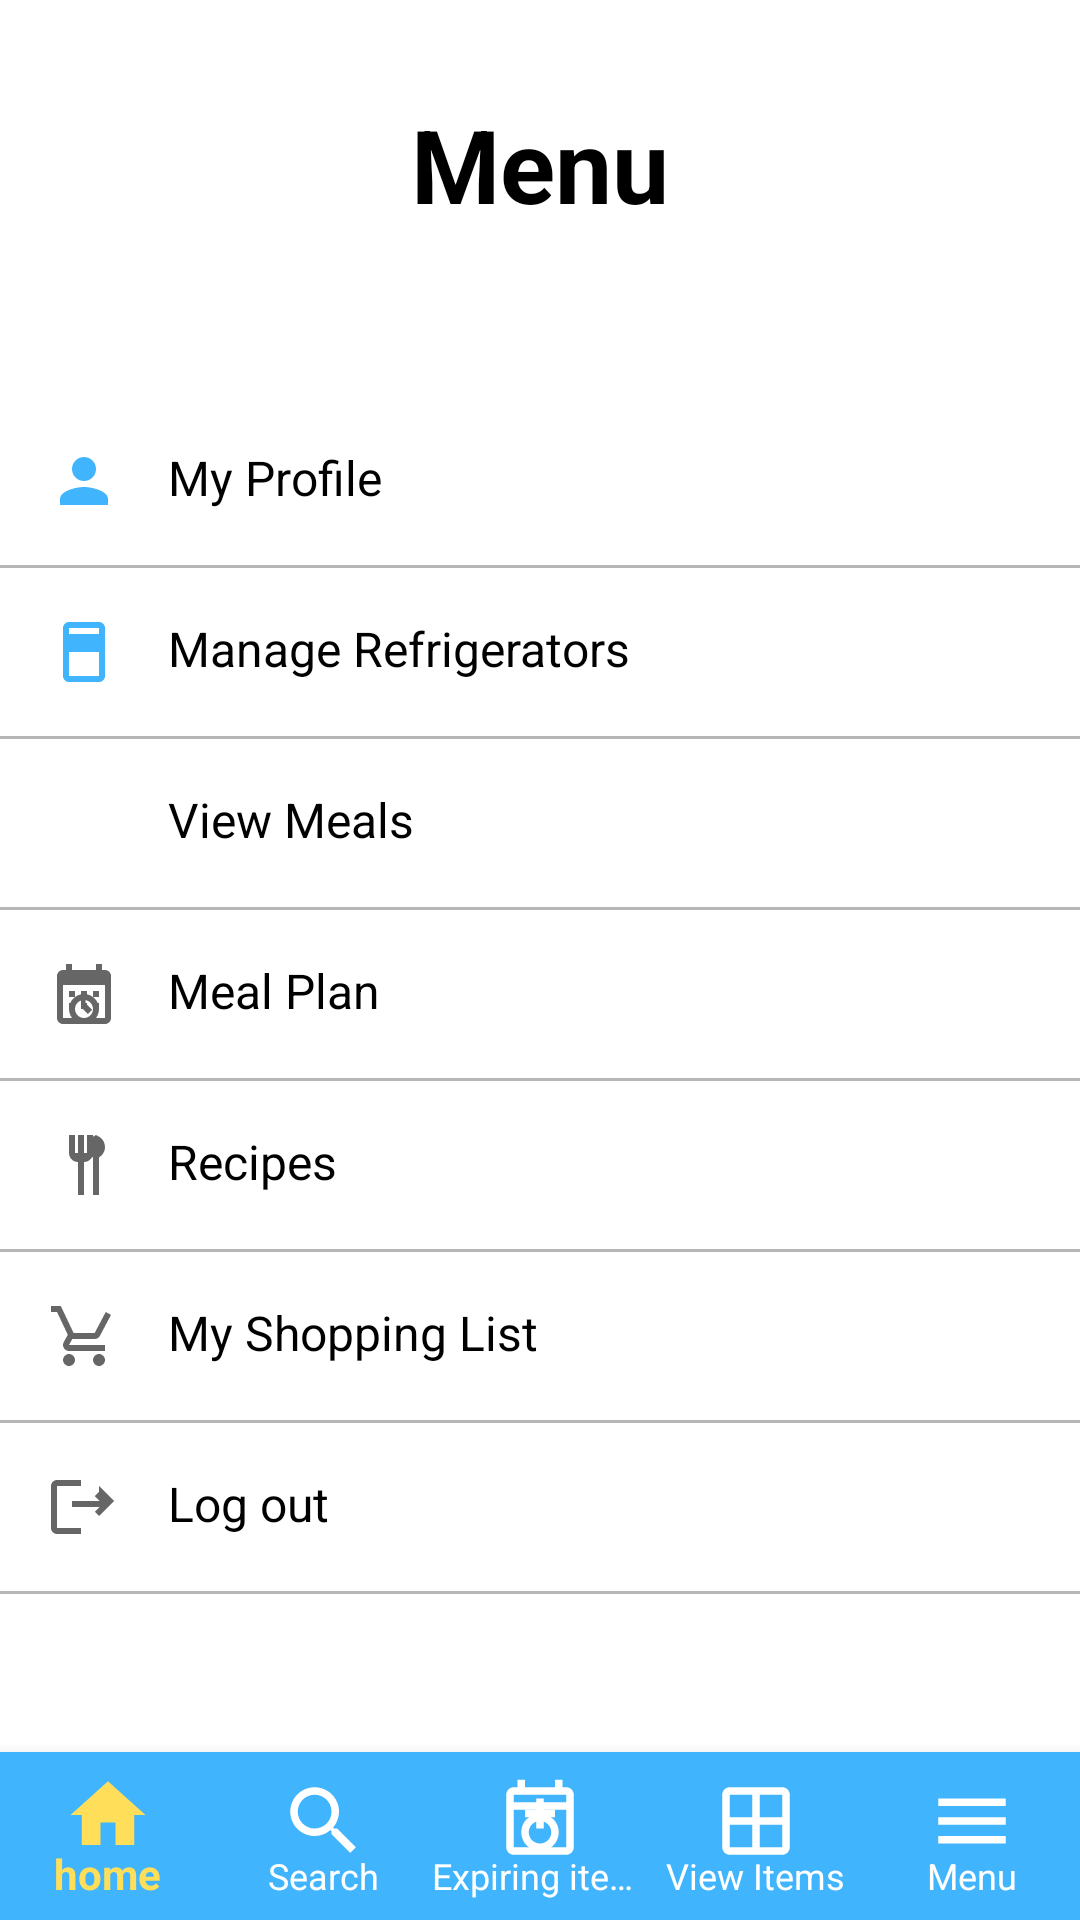

Icons on this 1080x1920 Android screen, each with the point to tap as [x,y]:
person: [84,481]
